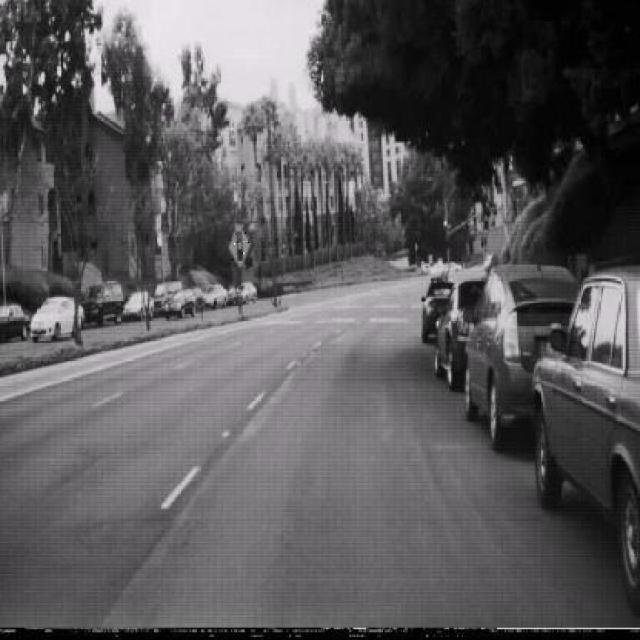signalAhead: (228, 222, 251, 268)
